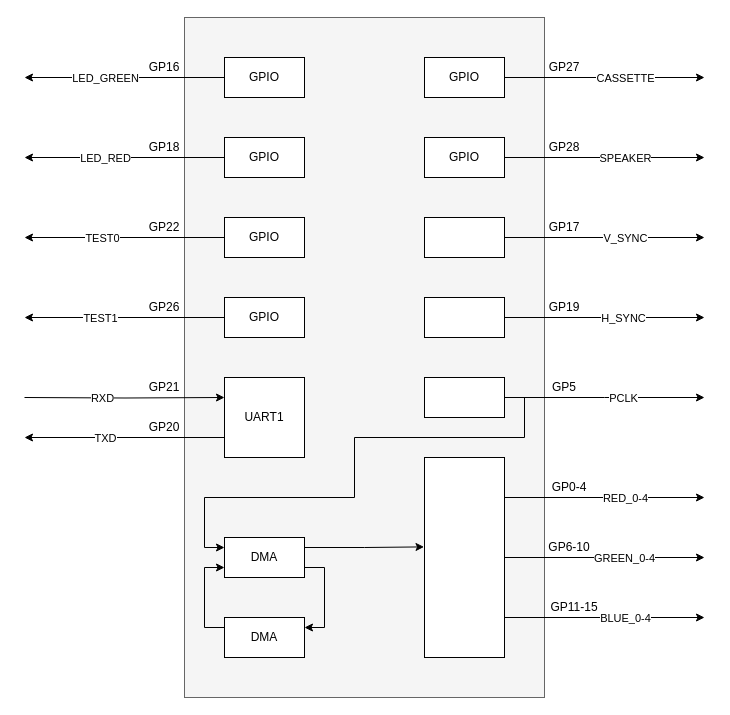
Image size: 730x715. Some labels were removed from this diagram. The centre of each missing label's shape, as x and y in pixels:
PIO0 configured as 16-bit parallel port: the point at 464,557
PWM0B: the point at 464,237
PWM1B: the point at 464,317
PWM2B: the point at 464,397
